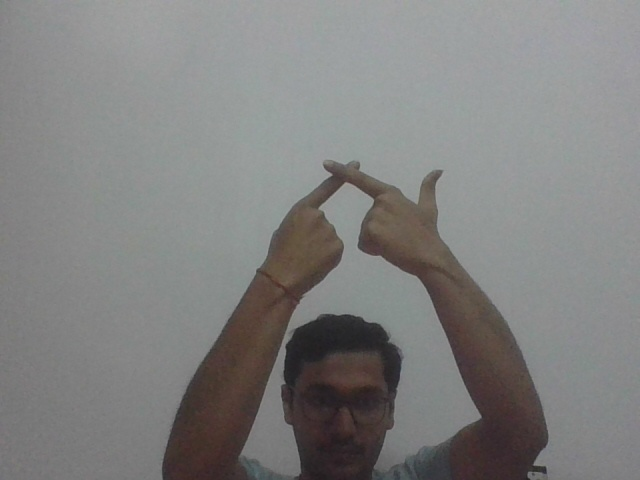J: (284, 157, 450, 277)
